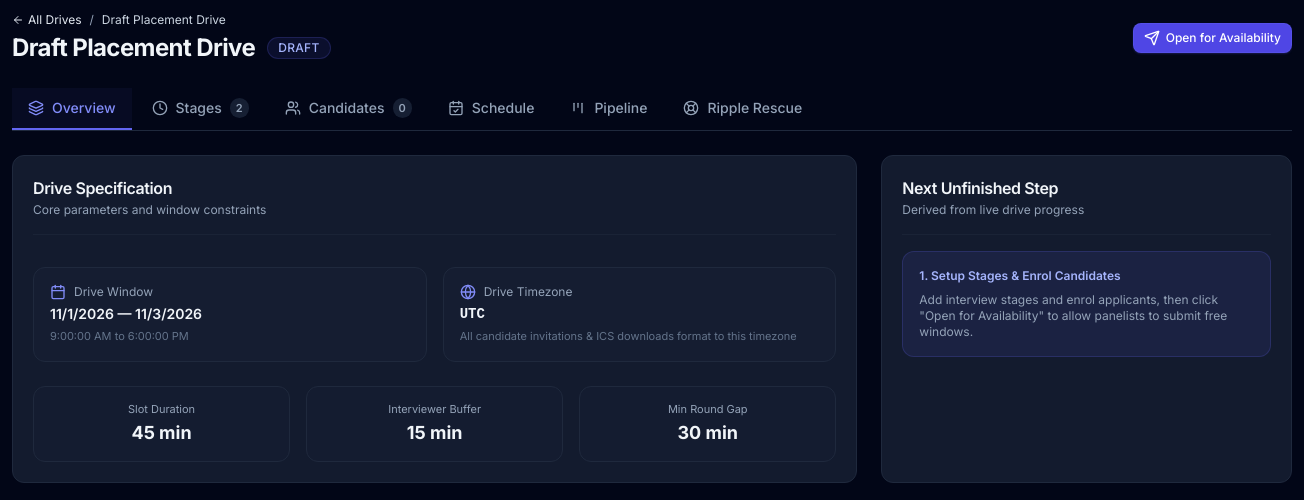
Test: F2: Coordinator Setup & Locked Fields › renders stages tab and allows viewing configured stages
The width and height of the screenshot is (1304, 500).
Expected: the heading "Draft Placement Drive" is shown, x1=12 y1=32 x2=255 y2=64
// Click on Stages tab
Click the button "Stages 2": (200, 109) x1=136 y1=88 x2=265 y2=130
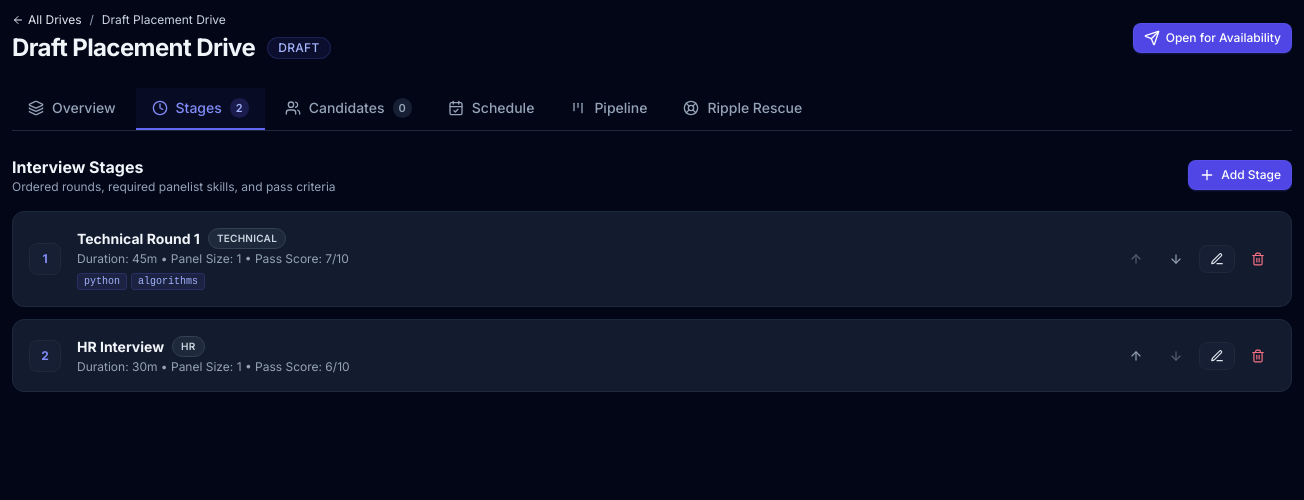
Expected: the heading "Technical Round 1" is shown, x1=77 y1=228 x2=200 y2=248
Expected: the heading "HR Interview" is shown, x1=77 y1=336 x2=164 y2=356
Expected: the text "python" is shown, x1=77 y1=273 x2=127 y2=290
